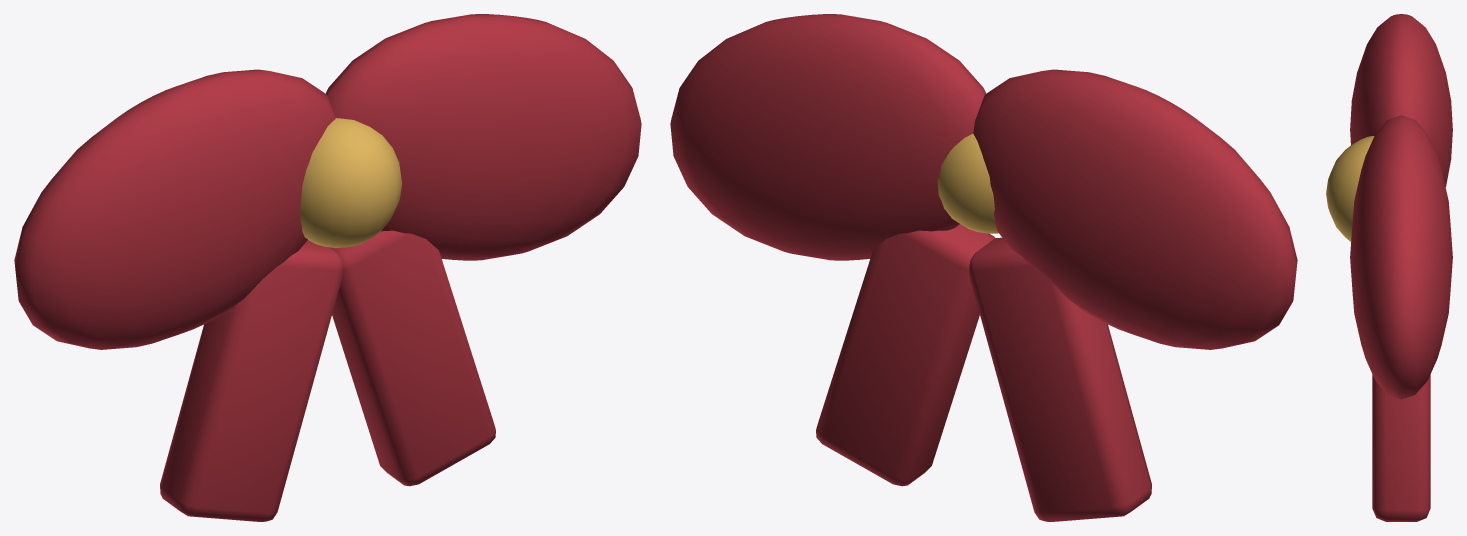
The model's file is ribbon.glb.
3 renders of one model, left to right at view 1: azimuth 30°, elevation 25°; view 2: azimuth 150°, elevation 25°; view 3: azimuth 270°, elevation 25°, orthographic. The views are drawn at different scales.
Visible parts, largest first — view 1: Tint, Tint.002, Tint.001, Tint.003, Knot; view 2: Tint, Tint.002, Tint.001, Tint.003, Knot; view 3: Tint.002, Tint, Tint.003, Knot.
Part boxes in pixels (bbox=[...]): Tint: bbox=[14, 69, 335, 349]; Tint.002: bbox=[326, 14, 641, 260]; Tint.001: bbox=[160, 240, 342, 521]; Tint.003: bbox=[329, 230, 495, 486]; Knot: bbox=[300, 118, 401, 247]; Tint: bbox=[973, 69, 1297, 349]; Tint.002: bbox=[670, 14, 985, 260]; Tint.001: bbox=[969, 237, 1151, 521]; Tint.003: bbox=[816, 224, 995, 486]; Knot: bbox=[937, 134, 998, 233]; Tint.002: bbox=[1350, 115, 1452, 399]; Tint: bbox=[1350, 14, 1452, 186]; Tint.003: bbox=[1372, 374, 1430, 521]; Knot: bbox=[1326, 136, 1374, 241].
Size of the model in its own units: 0.3708 by 0.2534 by 0.074.
